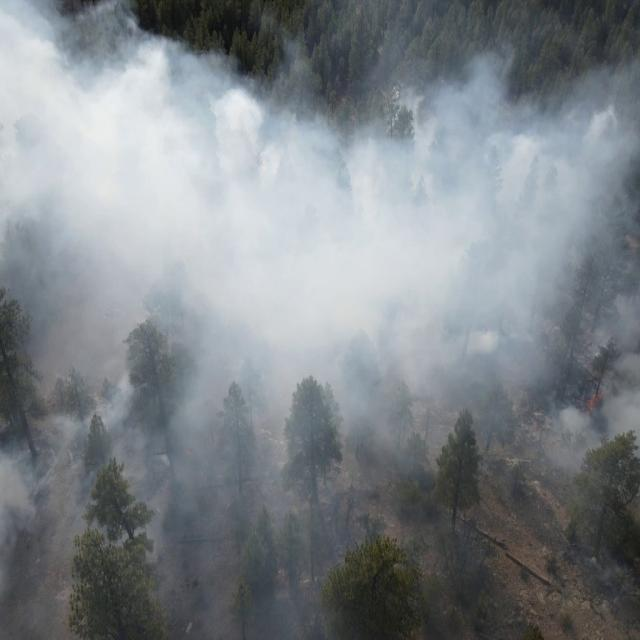fire: (563, 379, 617, 426)
smoke: (146, 31, 640, 640), (0, 2, 145, 640), (245, 1, 640, 32)
